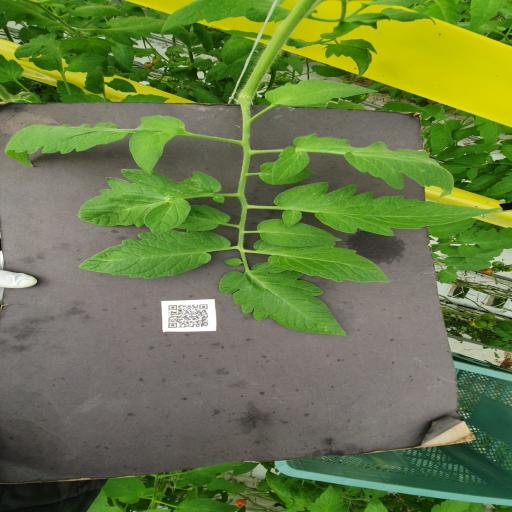Healthy: (270, 130, 458, 198), (274, 182, 492, 235), (2, 113, 183, 174), (215, 263, 348, 338), (81, 230, 232, 280), (254, 236, 390, 286), (159, 0, 292, 39), (263, 78, 384, 110), (95, 15, 192, 46), (257, 218, 345, 248), (220, 35, 264, 66), (426, 119, 462, 156), (456, 226, 512, 249), (426, 218, 478, 238), (62, 53, 108, 73), (104, 78, 137, 94), (55, 80, 85, 96), (456, 244, 480, 260)
